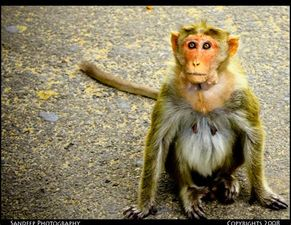monkey: (72, 21, 273, 209)
